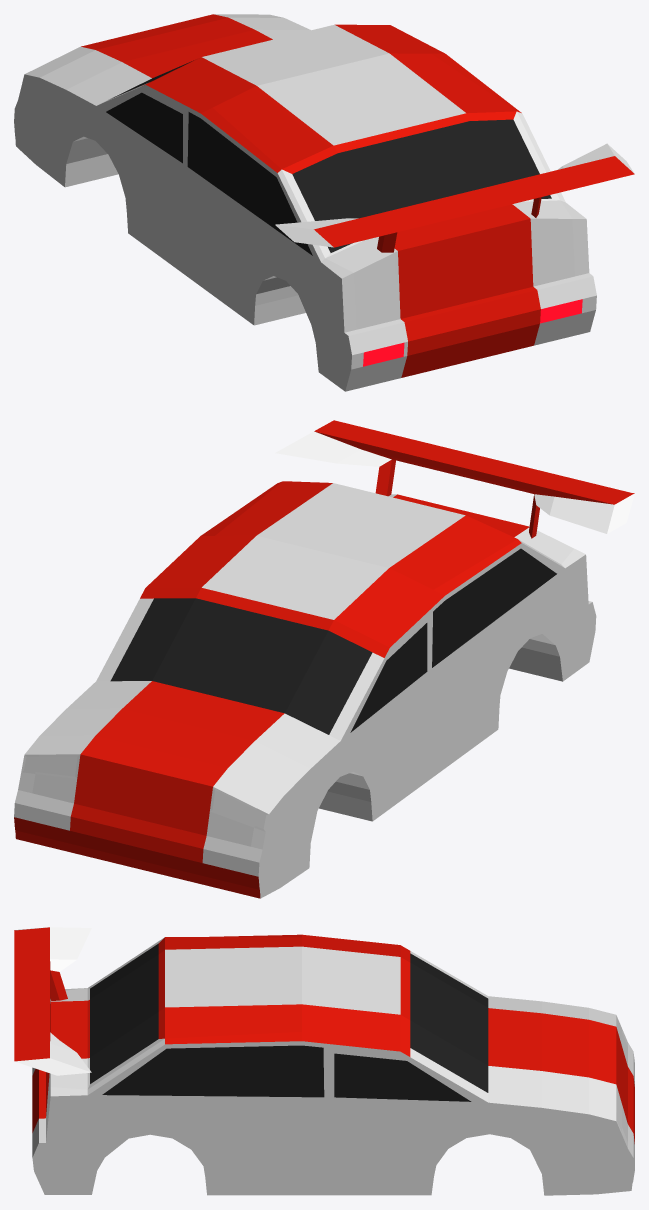
3 views of the same model, one above another, from view 1: azimuth 30°, elevation 25°; view 2: azimuth 150°, elevation 25°; view 3: azimuth 270°, elevation 25° (orthographic). The views are drawn at different scales.
Parts seen in each view (by area): view 1: Plane.030; view 2: Plane.030; view 3: Plane.030.
Part boxes in pixels (x1,y1,x2,y2): Plane.030: (14,14,634,391); Plane.030: (14,420,634,898); Plane.030: (14,927,634,1195).
Bounding box in the file's own units: 266 × 143 × 483.
